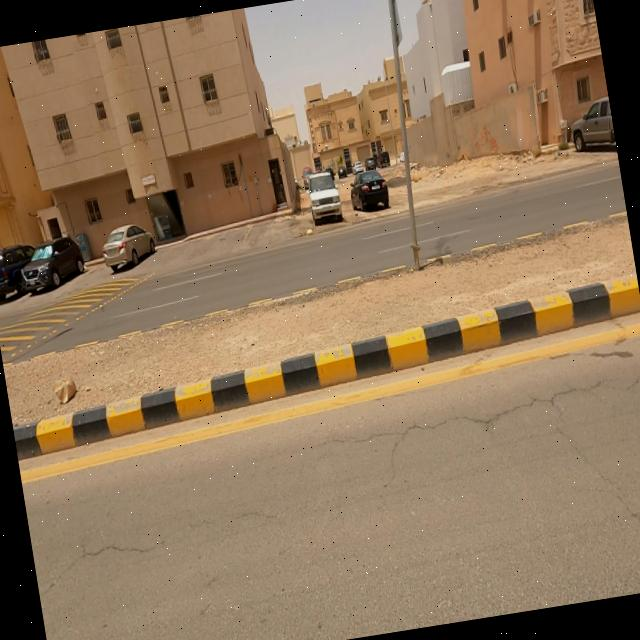Graffiti: (470, 123, 505, 156)
